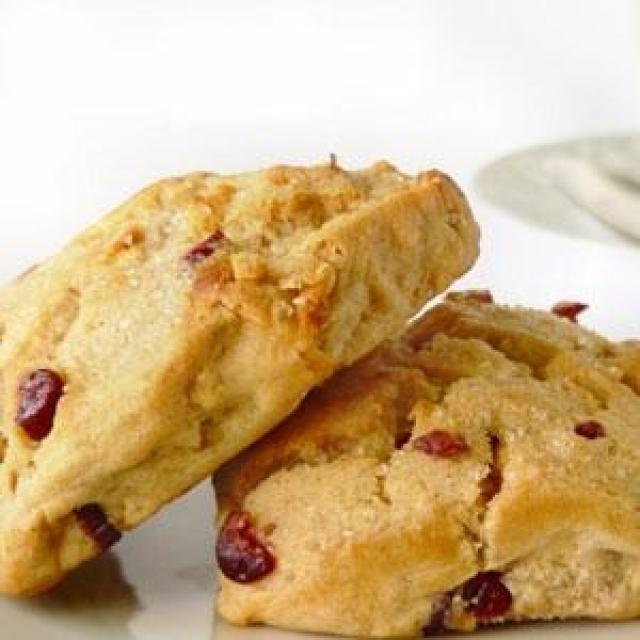面包点心: (0, 124, 636, 631)
